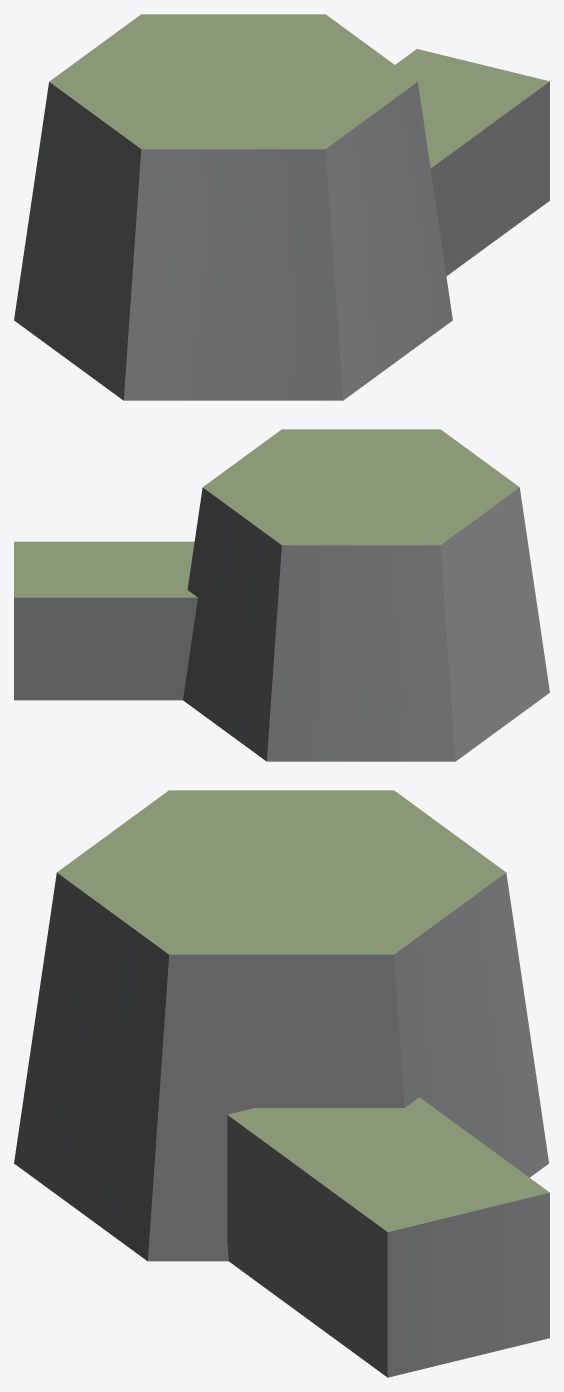
Rendered from Rock_RuneStone_Used.fbx.
3 renders of one model, top to bottom at view 1: azimuth 30°, elevation 25°; view 2: azimuth 150°, elevation 25°; view 3: azimuth 270°, elevation 25°, orthographic. The views are drawn at different scales.
Parts seen in each view (by area): view 1: Res_Rock_RuneStone_Used; view 2: Res_Rock_RuneStone_Used; view 3: Res_Rock_RuneStone_Used.
Part boxes in pixels (box(x1,y1,x2,y2)): Res_Rock_RuneStone_Used: box(14, 14, 549, 400); Res_Rock_RuneStone_Used: box(14, 429, 549, 761); Res_Rock_RuneStone_Used: box(14, 790, 549, 1377).
Bounding box in the file's own units: 1.38 × 0.6 × 1.
